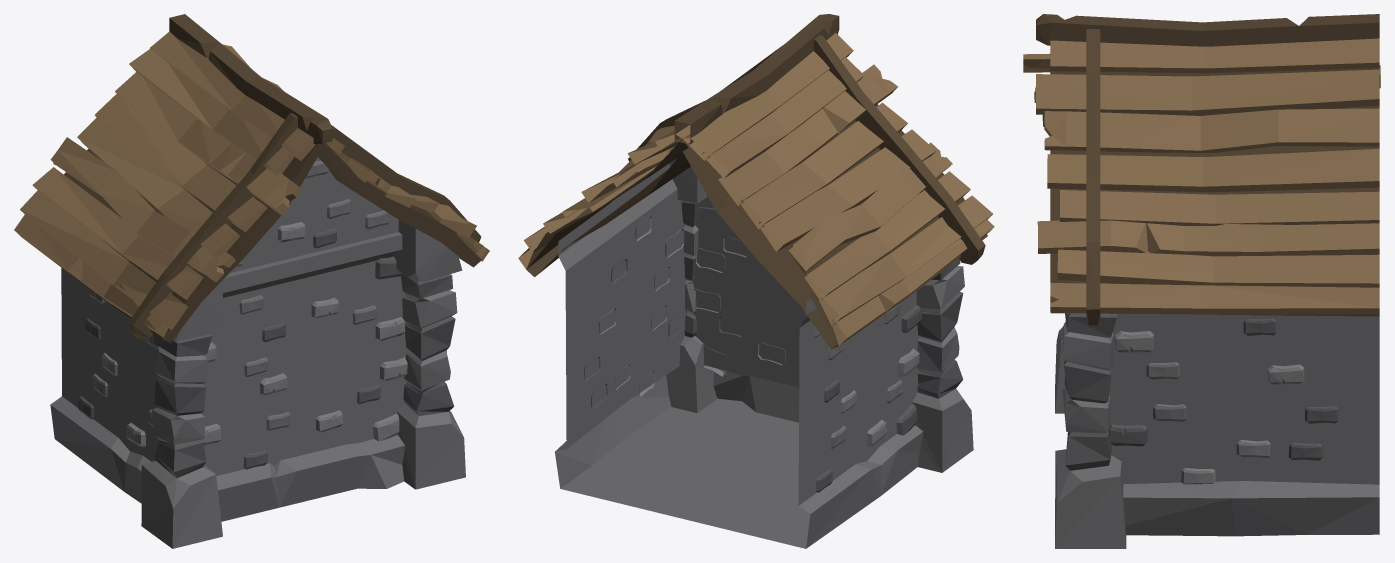
The model's file is SM_Bld_Church_Extension_01.gltf.
The picture shows the model from 3 angles, left to right: view 1: azimuth 30°, elevation 25°; view 2: azimuth 150°, elevation 25°; view 3: azimuth 270°, elevation 25°; orthographic projection. The views are drawn at different scales.
Parts seen in each view (by area): view 1: SM_Bld_Church_Extension_01; view 2: SM_Bld_Church_Extension_01; view 3: SM_Bld_Church_Extension_01.
Part boxes in pixels (x1,y1,x2,y2): SM_Bld_Church_Extension_01: (14,14,489,548); SM_Bld_Church_Extension_01: (518,14,994,548); SM_Bld_Church_Extension_01: (1023,14,1380,548).
Bounding box in the file's own units: 4.25 × 4.58 × 3.31.
Materials: 1 (1 with a texture image).
